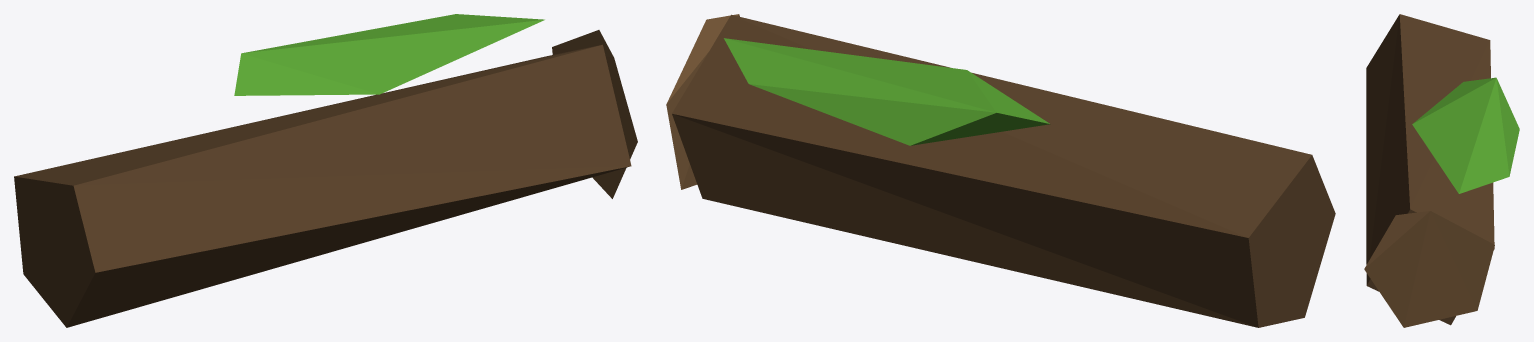
The model's file is log_single_lod1.glb.
3 renders of one model, left to right at view 1: azimuth 30°, elevation 25°; view 2: azimuth 150°, elevation 25°; view 3: azimuth 270°, elevation 25°, orthographic. The views are drawn at different scales.
Visible parts, largest first — view 1: log_single_lod1; view 2: log_single_lod1; view 3: log_single_lod1.
Boxes of the visible parts, x1,y1,x2,y2 form: log_single_lod1: [14, 14, 637, 327]; log_single_lod1: [666, 14, 1335, 327]; log_single_lod1: [1364, 14, 1519, 327].
Bounding box in the file's own units: 2.24 × 0.695 × 0.7265.
